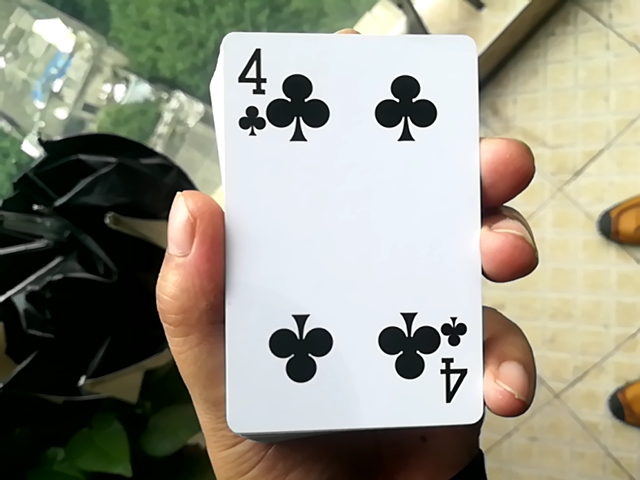mh 4: (203, 16, 488, 431)
